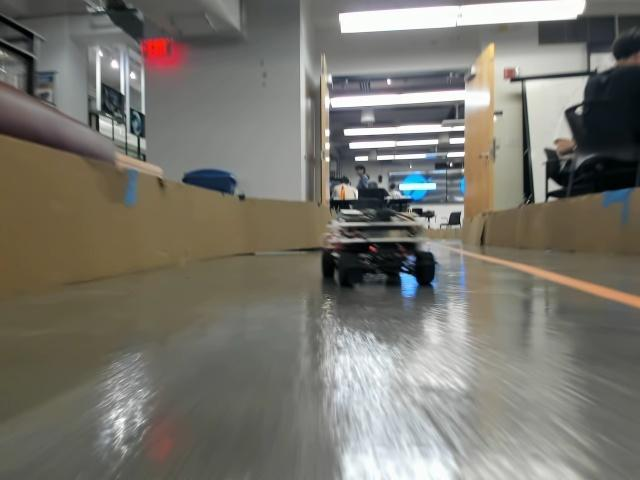Car: (322, 199, 437, 288)
